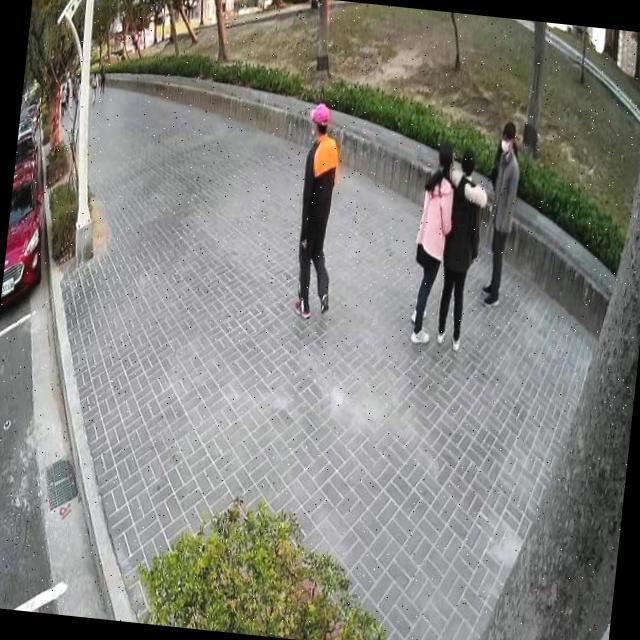person: (282, 91, 354, 327), (431, 138, 496, 352), (403, 132, 463, 349), (476, 116, 526, 312), (56, 80, 70, 118), (96, 54, 109, 94), (89, 66, 102, 105), (61, 76, 73, 118)
